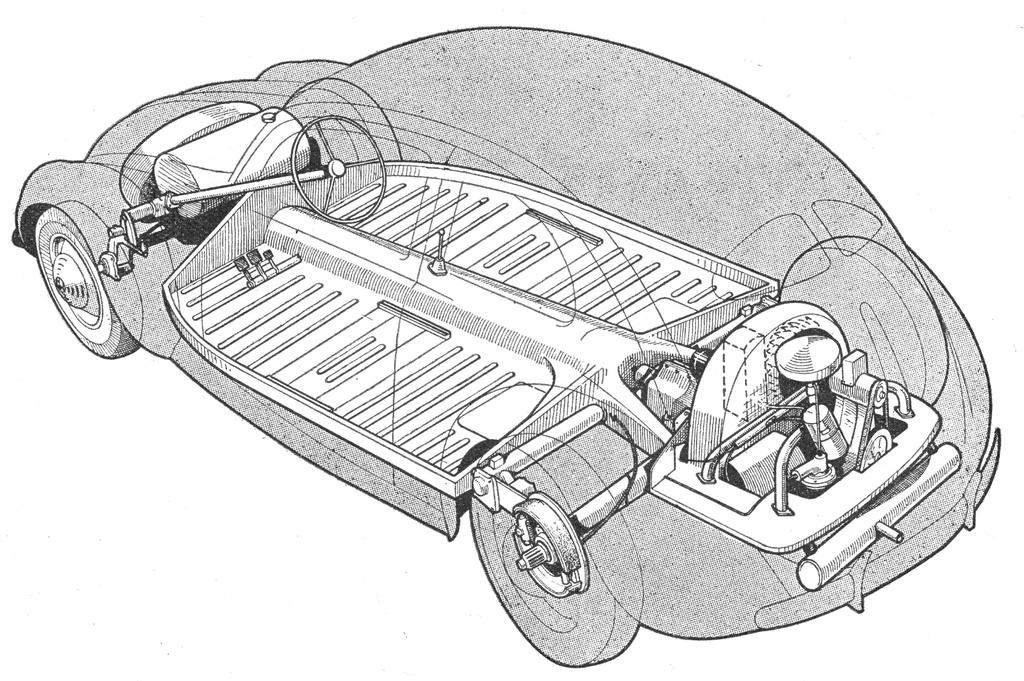Car: (0, 0, 1024, 667)
